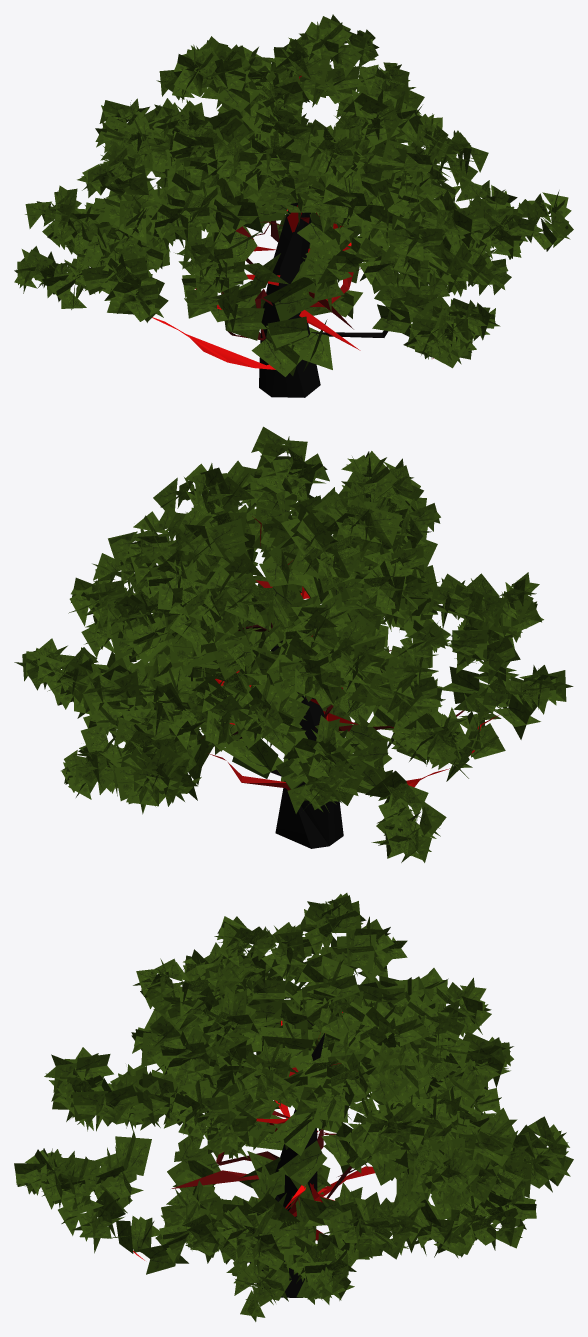
Rendered from oak6 lod2.FBX.
The picture shows the model from 3 angles, top to bottom: view 1: azimuth 30°, elevation 25°; view 2: azimuth 150°, elevation 25°; view 3: azimuth 270°, elevation 25°; orthographic projection. The views are drawn at different scales.
Parts seen in each view (by area): view 1: oak6_LOD2; view 2: oak6_LOD2; view 3: oak6_LOD2.
Part boxes in pixels (x1,y1,x2,y2): oak6_LOD2: (14,14,573,397); oak6_LOD2: (14,426,573,862); oak6_LOD2: (14,893,573,1321).
Bounding box in the file's own units: 202608 × 151816 × 205477.
